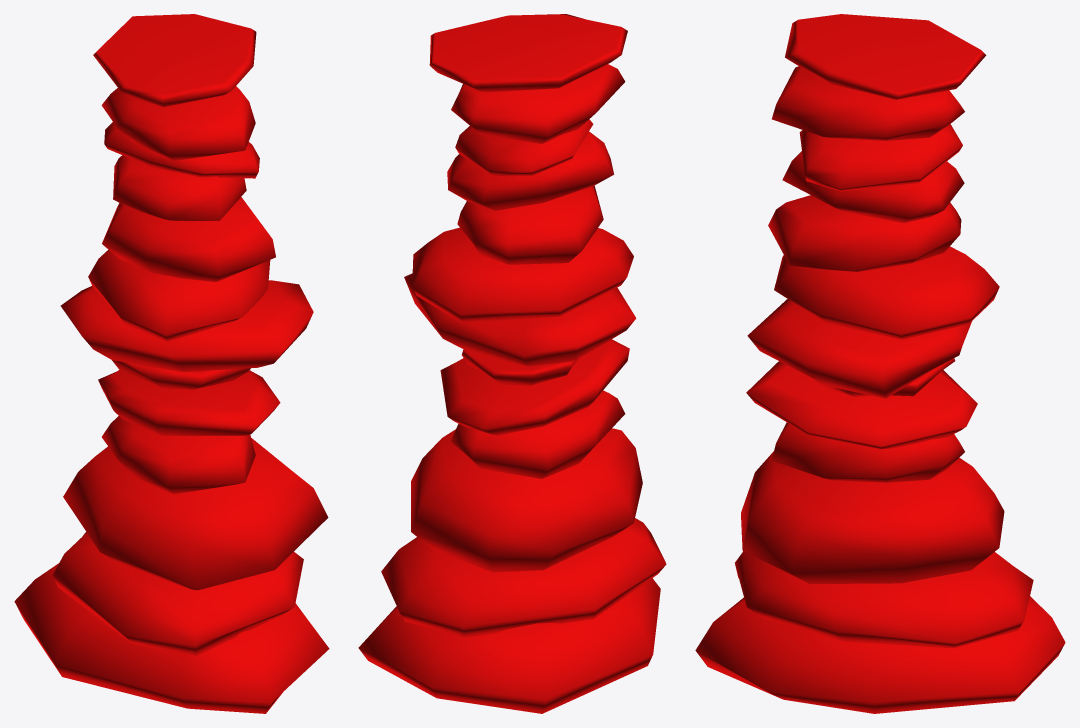
File: RockStack01_mesh.fbx
3 renders of one model, left to right at view 1: azimuth 30°, elevation 25°; view 2: azimuth 150°, elevation 25°; view 3: azimuth 270°, elevation 25°, orthographic. The views are drawn at different scales.
Visible parts, largest first — view 1: RockStack01_mesh; view 2: RockStack01_mesh; view 3: RockStack01_mesh.
Part boxes in pixels (left/top/right/bottom): RockStack01_mesh: left=14, top=14, right=329, bottom=713; RockStack01_mesh: left=358, top=14, right=666, bottom=713; RockStack01_mesh: left=695, top=14, right=1065, bottom=713.
Size of the model in its own units: 0.3323 by 0.776 by 0.4214.
